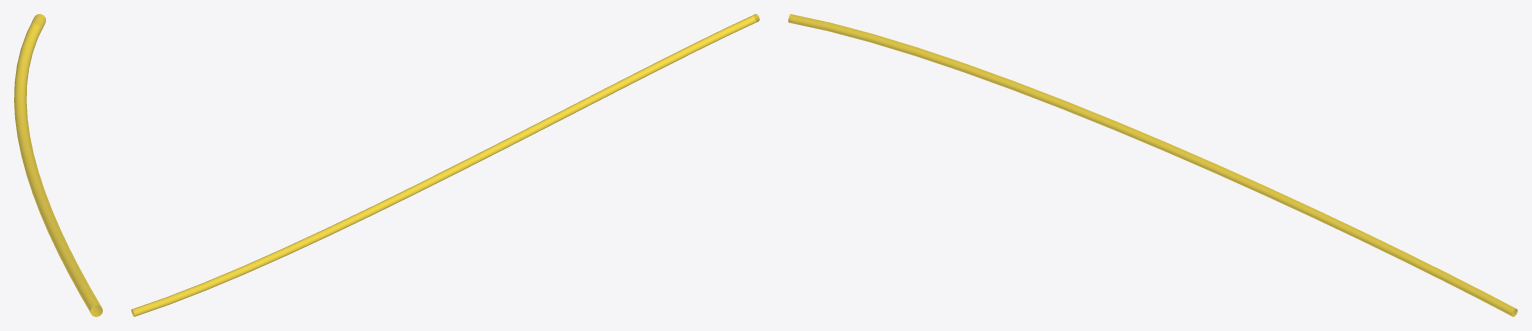
Rendered from Event_419990632_track_81.fbx.
3 renders of one model, left to right at view 1: azimuth 90°, elevation 25°; view 2: azimuth 210°, elevation 25°; view 3: azimuth 330°, elevation 25°, orthographic. The views are drawn at different scales.
Visible parts, largest first — view 1: Model; view 2: Model; view 3: Model.
Part boxes in pixels (bbox=[...]): Model: bbox=[14, 14, 102, 316]; Model: bbox=[131, 14, 759, 316]; Model: bbox=[788, 14, 1517, 316].
Size of the model in its own units: 3.64 by 0.7154 by 0.2816.
